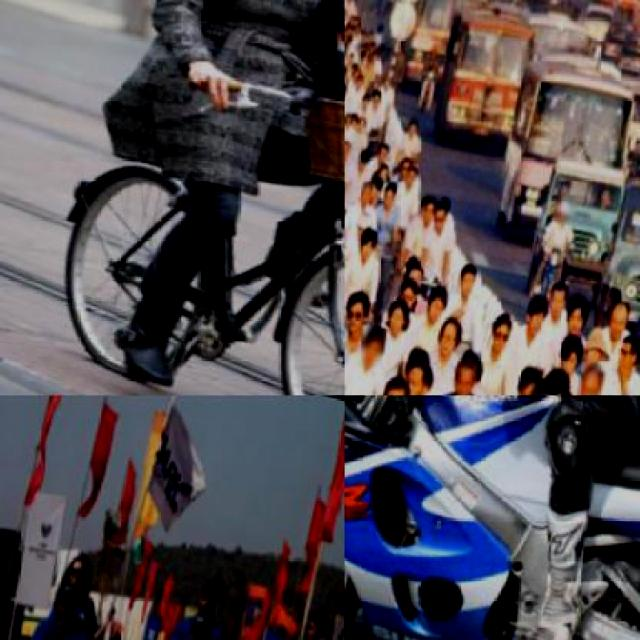With Helmet: (554, 185, 581, 222)
Without Helmet: (193, 557, 235, 612), (63, 541, 103, 590), (575, 355, 614, 394), (361, 322, 393, 369), (375, 363, 423, 394), (51, 581, 85, 622), (182, 608, 222, 638), (524, 369, 564, 394)
